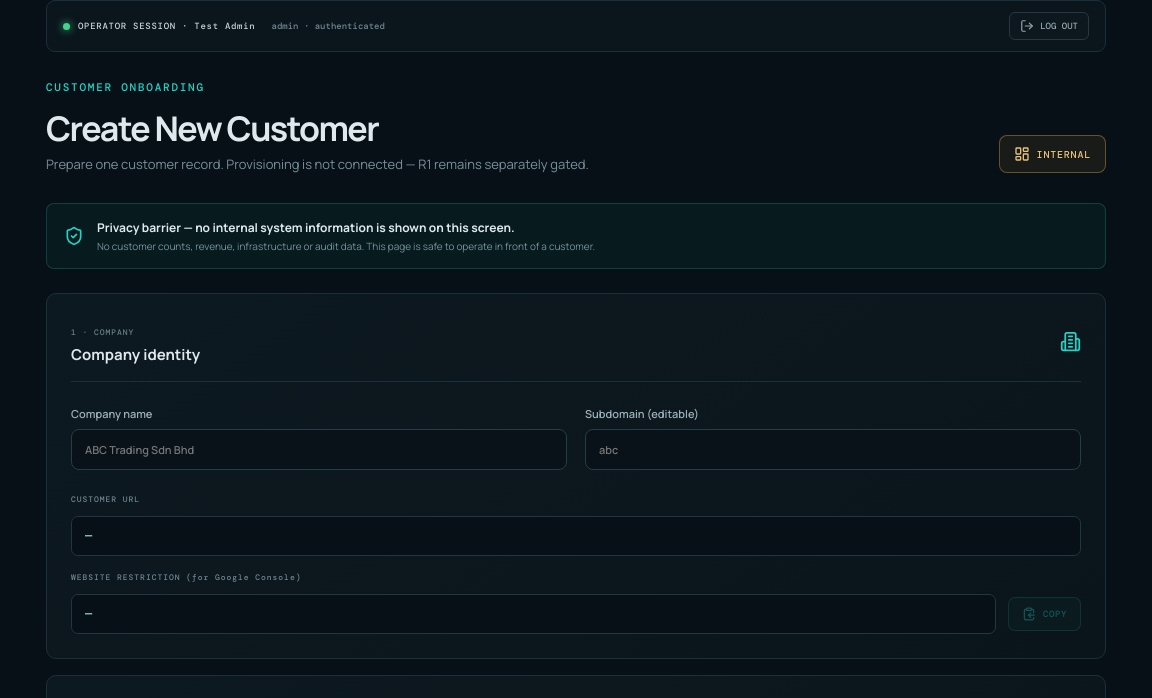
Test case: PRE-R1 operator UX — landing, internal gate and production data isolation › 2. INTERNAL dashboard control is visible to admin only
Expected: the heading "Create New Customer" is shown, [46,105,378,151]
Click the button with aria-label "INTERNAL ADMIN" at (1052, 154), box [999,135,1106,173]
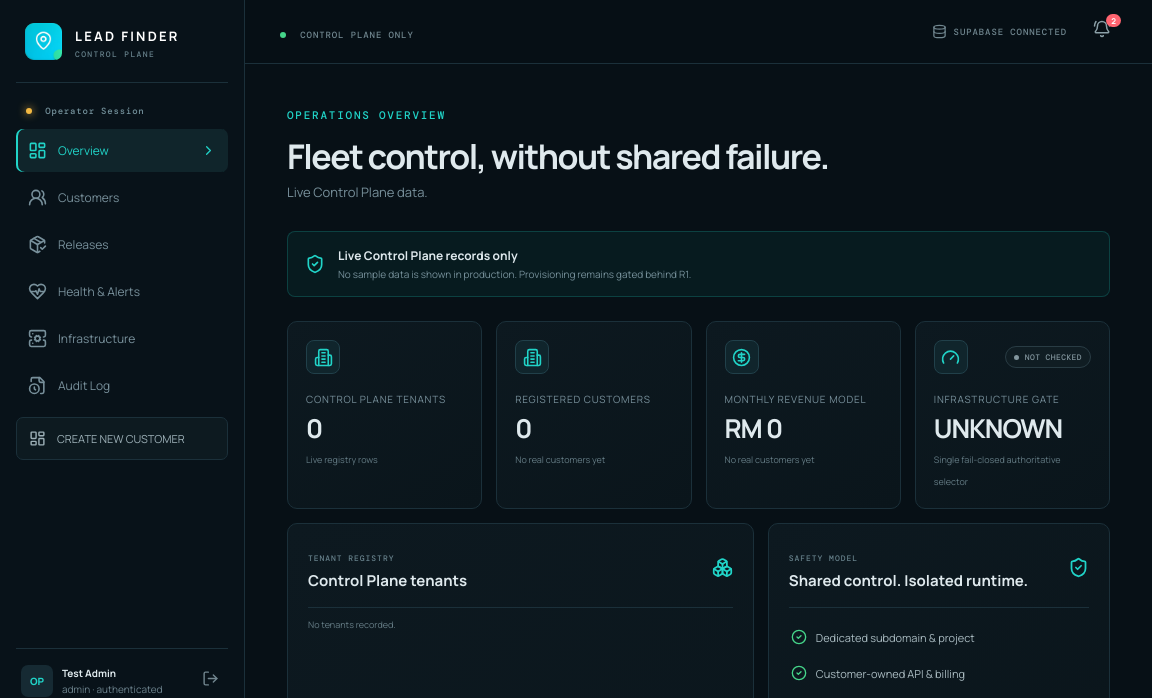
Expected: the button with aria-label "back to create customer" is shown, [16,417,228,460]
Now the button "Overview" is shown, box [16,129,228,172]
